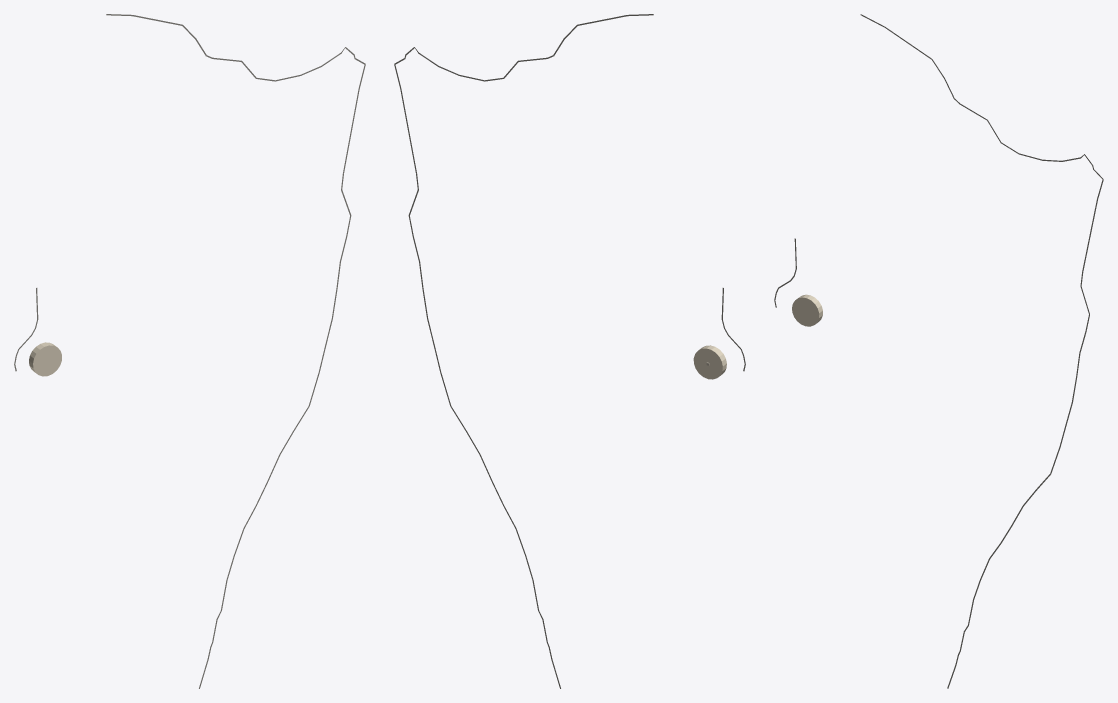
File: historic-palestine-12_26_3543_3205.glb
3 views of the same model, side by side, from view 1: azimuth 30°, elevation 25°; view 2: azimuth 150°, elevation 25°; view 3: azimuth 330°, elevation 25° (orthographic). The views are drawn at different scales.
Visible parts, largest first — view 1: Road .001, Building_, Road; view 2: Road .001, Building_, Road; view 3: Road .001, Building_, Road.
Part boxes in pixels (x1=…): Road .001: x1=199, y1=173, x2=351, y2=688; Building_: x1=29, y1=342, x2=61, y2=376; Road: x1=106, y1=14, x2=365, y2=81; Road .001: x1=408, y1=173, x2=560, y2=688; Building_: x1=693, y1=345, x2=726, y2=379; Road: x1=394, y1=14, x2=653, y2=81; Road .001: x1=947, y1=271, x2=1089, y2=688; Building_: x1=792, y1=294, x2=822, y2=326; Road: x1=860, y1=14, x2=1103, y2=179.
Size of the model in its own units: 368 by 697 by 8.7.
